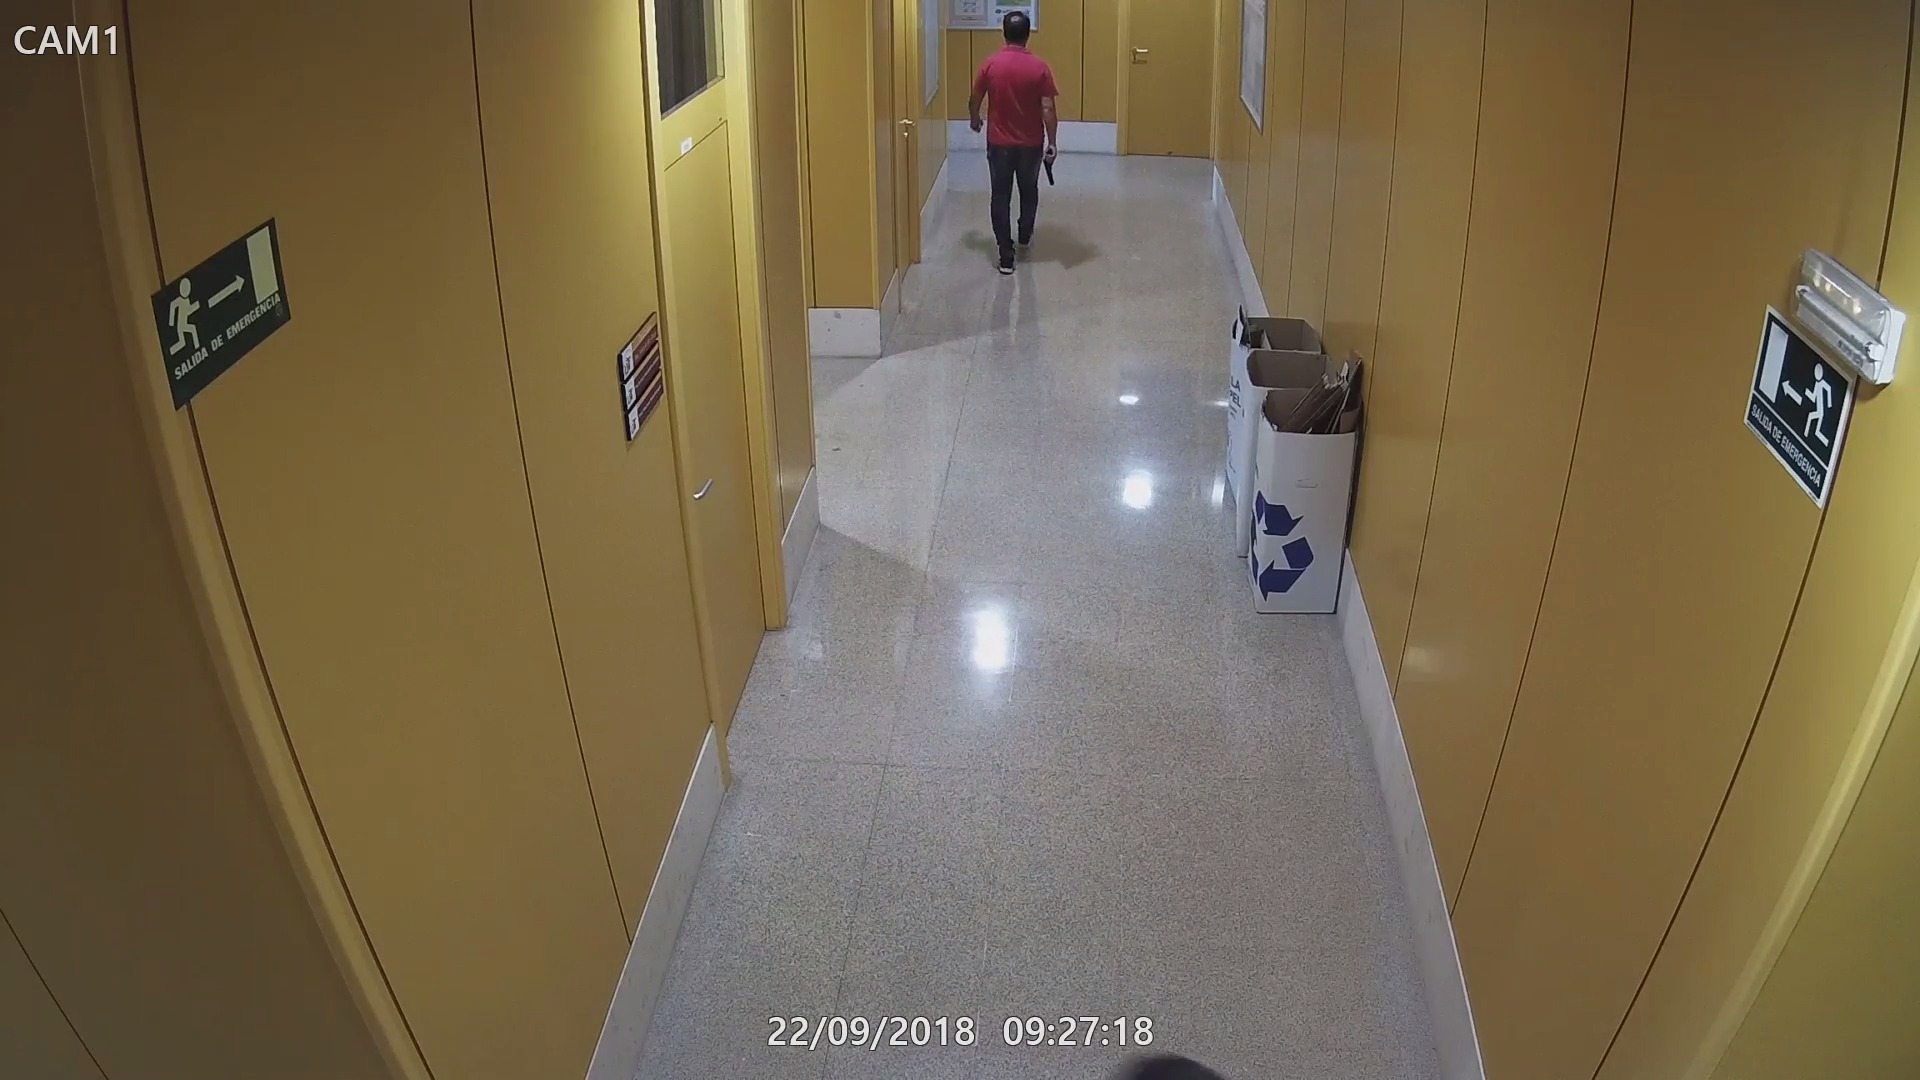Handgun: (1038, 146, 1064, 183)
